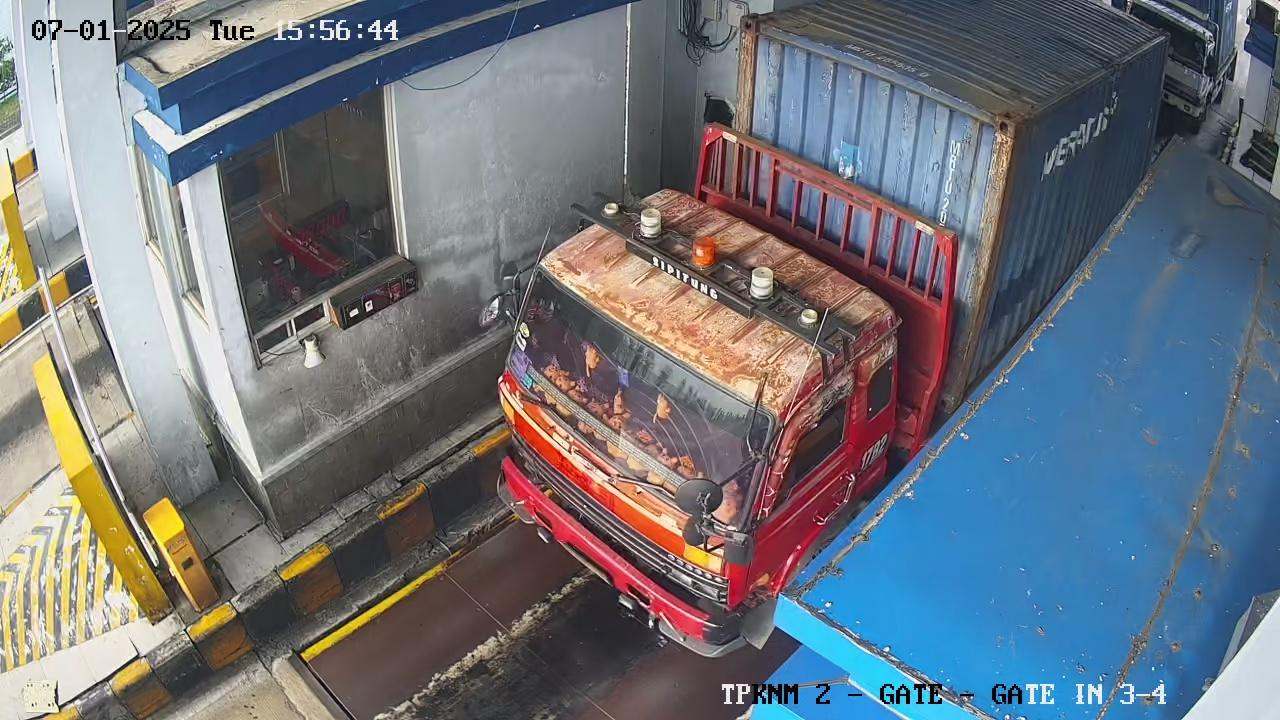Container_ID: (828, 29, 949, 103)
Container_ID_Vertikal: (928, 125, 966, 232)
